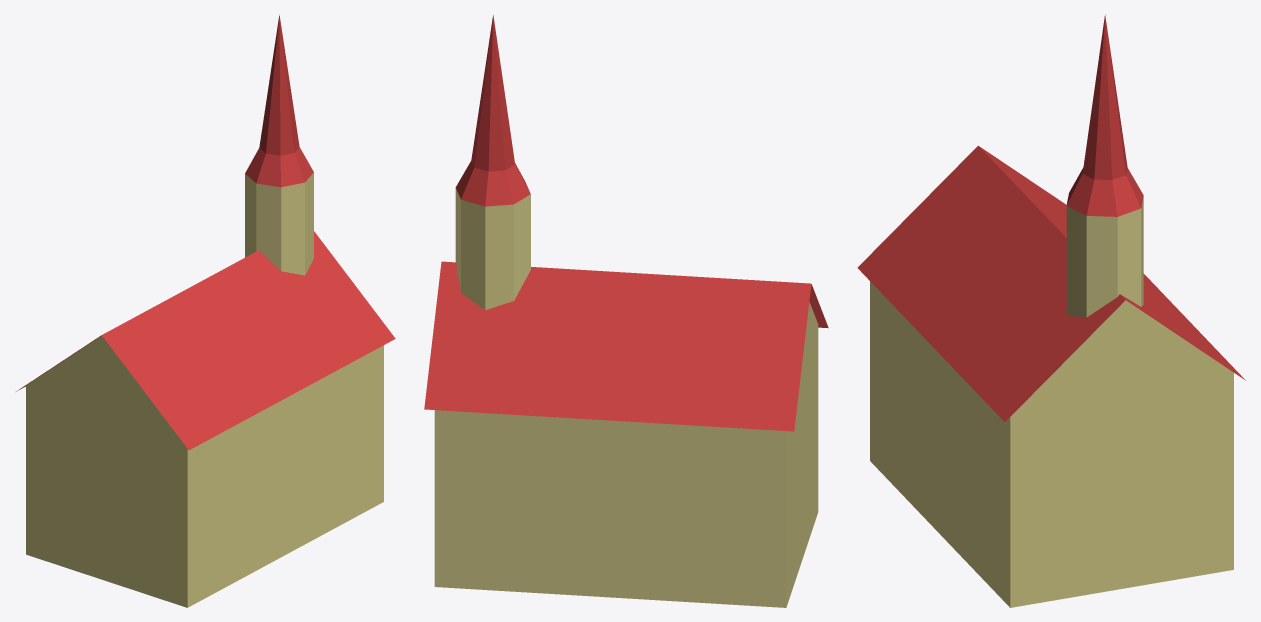
The picture shows the model from 3 angles, left to right: view 1: azimuth 30°, elevation 25°; view 2: azimuth 150°, elevation 25°; view 3: azimuth 270°, elevation 25°; orthographic projection. The views are drawn at different scales.
Bounding box in the file's own units: 23.58 × 19.81 × 31.29.
